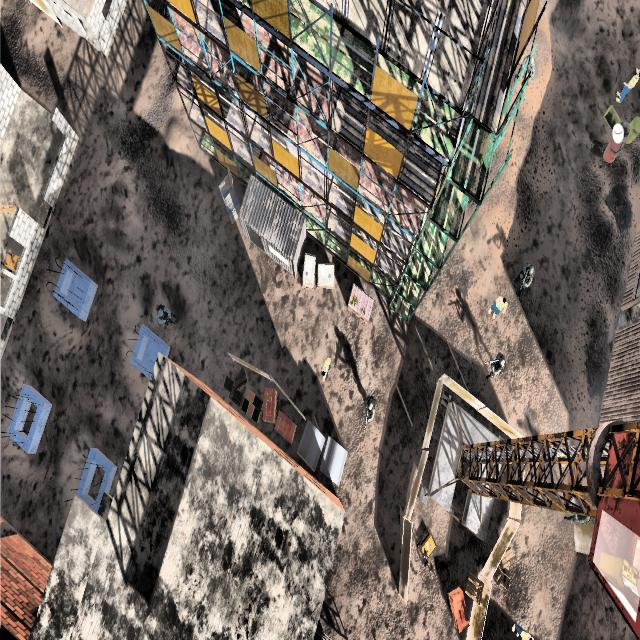bad: (511, 257, 542, 304), (359, 386, 382, 438), (484, 345, 508, 383), (152, 295, 176, 331)
good: (613, 54, 640, 114), (488, 285, 512, 330), (313, 354, 341, 389), (510, 609, 538, 640)
